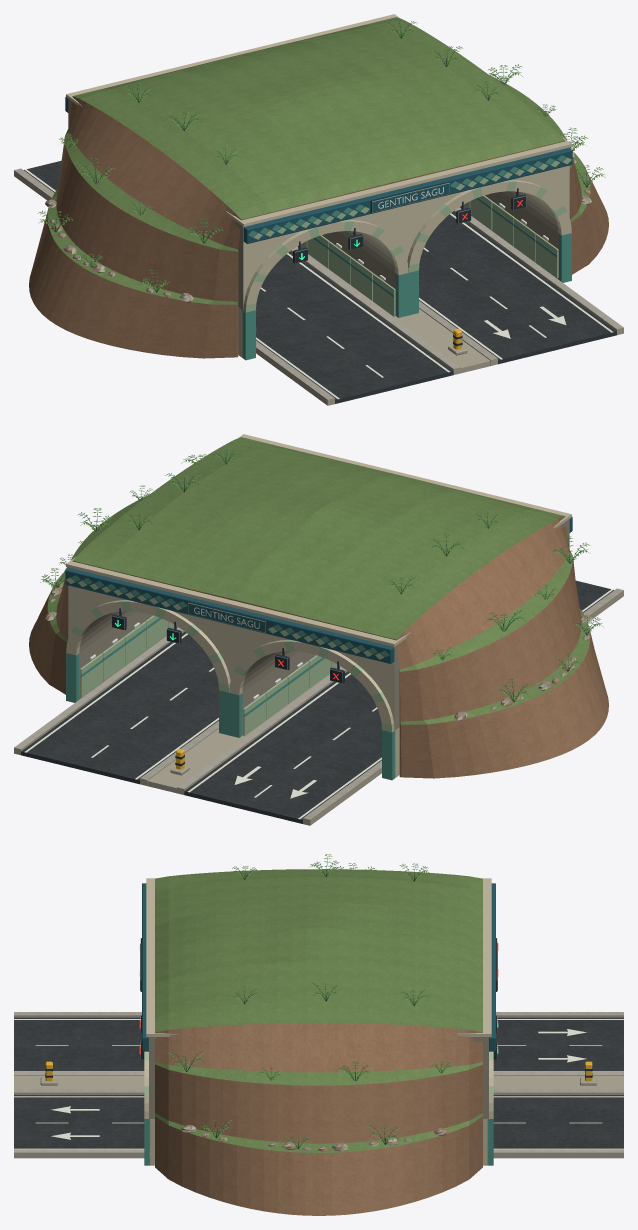
The picture shows the model from 3 angles, top to bottom: view 1: azimuth 30°, elevation 25°; view 2: azimuth 150°, elevation 25°; view 3: azimuth 270°, elevation 25°; orthographic projection. The views are drawn at different scales.
Parts seen in each view (by area): view 1: Terraced overburden, Directional carriageways, Portal voussoirs, Emergency margins, Headwall spandrels, Tunnel kick tiles, Frieze field, Roof coping, Vault lining, Fern banks, Median plinth, Woven facade tiles (+6 smaller); view 2: Terraced overburden, Directional carriageways, Portal voussoirs, Emergency margins, Headwall spandrels, Tunnel kick tiles, Frieze field, Roof coping, Vault lining, Fern banks, Median plinth, Woven facade tiles (+6 smaller); view 3: Terraced overburden, Directional carriageways, Emergency margins, Median plinth, Roof coping, Fern banks, Frieze field, Fog lines, Portal voussoirs, Headwall spandrels, Laterite bench outcrops, Direction arrows (+1 smaller).
Boxes of the visible parts, bbox=[...] form: Terraced overburden: bbox=[29, 17, 608, 358]; Directional carriageways: bbox=[24, 160, 616, 403]; Portal voussoirs: bbox=[242, 180, 571, 360]; Emergency margins: bbox=[14, 168, 623, 405]; Headwall spandrels: bbox=[68, 99, 569, 310]; Tunnel kick tiles: bbox=[297, 195, 558, 316]; Frieze field: bbox=[65, 97, 572, 243]; Roof coping: bbox=[66, 14, 571, 226]; Vault lining: bbox=[238, 191, 558, 357]; Fern banks: bbox=[38, 20, 605, 292]; Median plinth: bbox=[297, 246, 490, 373]; Woven facade tiles: bbox=[248, 155, 571, 239]; Terraced overburden: bbox=[29, 437, 608, 778]; Directional carriageways: bbox=[21, 580, 613, 823]; Portal voussoirs: bbox=[66, 600, 395, 780]; Emergency margins: bbox=[14, 588, 623, 825]; Headwall spandrels: bbox=[68, 519, 569, 730]; Tunnel kick tiles: bbox=[80, 615, 340, 736]; Frieze field: bbox=[65, 517, 572, 663]; Roof coping: bbox=[66, 434, 571, 646]; Vault lining: bbox=[79, 611, 399, 777]; Fern banks: bbox=[40, 449, 602, 701]; Median plinth: bbox=[147, 666, 340, 793]; Woven facade tiles: bbox=[66, 575, 389, 659]; Terraced overburden: bbox=[155, 869, 482, 1215]; Directional carriageways: bbox=[14, 1017, 623, 1148]; Emergency margins: bbox=[14, 1012, 623, 1158]; Median plinth: bbox=[14, 1076, 623, 1089]; Roof coping: bbox=[146, 878, 491, 1036]; Fern banks: bbox=[168, 854, 452, 1148]; Frieze field: bbox=[142, 883, 495, 1051]; Fog lines: bbox=[14, 1019, 623, 1149]; Portal voussoirs: bbox=[144, 1051, 493, 1165]; Headwall spandrels: bbox=[149, 1037, 488, 1118]; Laterite bench outcrops: bbox=[181, 1125, 450, 1151]; Direction arrows: bbox=[51, 1029, 586, 1139].
Bounding box in the file's own units: 31.72 × 9.52 × 32.
21 materials, 4 textured.
